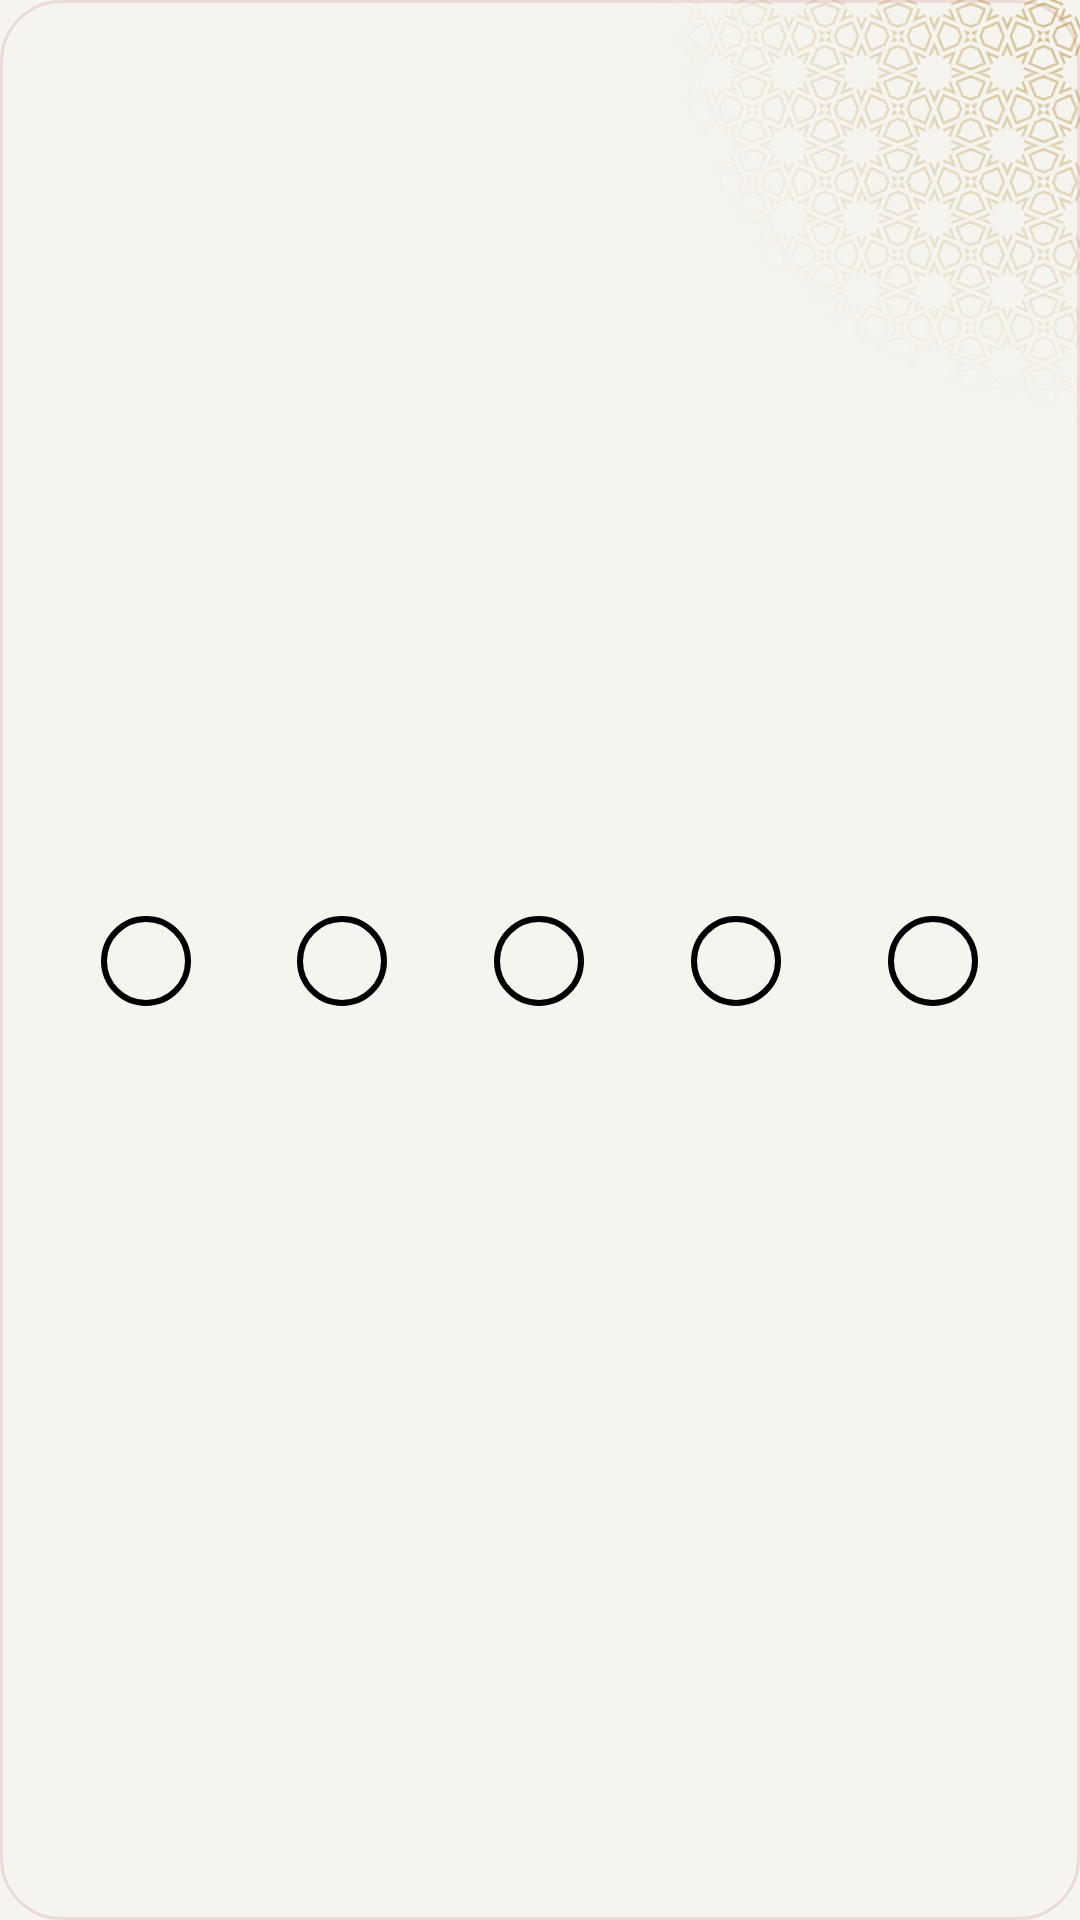

Where icons sit on this 1080×1920 app screen, as (x1,y1,x2,y2):
widget dot open: (101,916,191,1006), (297,916,387,1006), (494,916,584,1006), (691,916,781,1006), (888,916,978,1006)
widget orn band: (760,0,1080,319)
